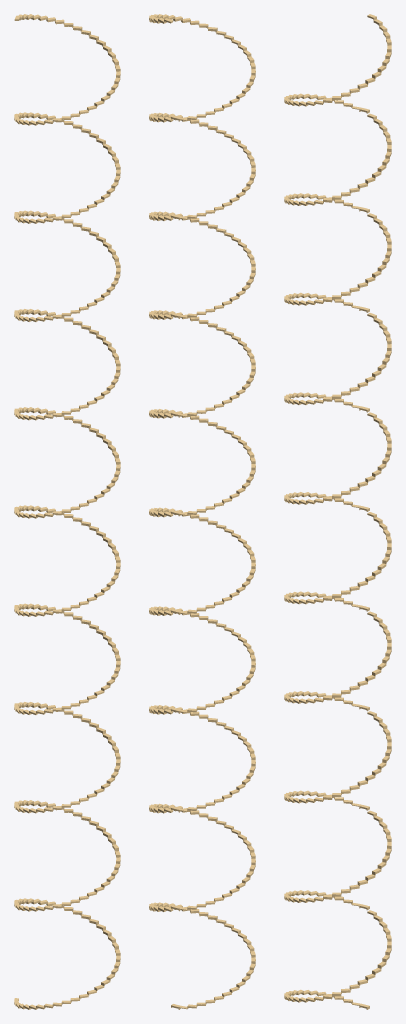
File: original-stair-parts.glb
3 views of the same model, side by side, from view 1: azimuth 90°, elevation 25°; view 2: azimuth 150°, elevation 25°; view 3: azimuth 330°, elevation 25° (orthographic).
Parts seen in each view (by area): view 1: stair-section-10, stair-section-07, stair-section-03, stair-section-04, stair-section-08, stair-section-02, stair-section-06, stair-section-09, stair-section-01, stair-section-05; view 2: stair-section-10, stair-section-05, stair-section-08, stair-section-02, stair-section-07, stair-section-03, stair-section-01, stair-section-06, stair-section-09, stair-section-04; view 3: stair-section-09, stair-section-02, stair-section-07, stair-section-04, stair-section-05, stair-section-06, stair-section-08, stair-section-10, stair-section-01, stair-section-03.
Part boxes in pixels (x1,y1,x2,y2): stair-section-10: (14, 14, 120, 125); stair-section-07: (14, 309, 120, 420); stair-section-03: (14, 702, 120, 813); stair-section-04: (14, 603, 120, 714); stair-section-08: (14, 210, 120, 321); stair-section-02: (14, 800, 120, 911); stair-section-06: (14, 407, 120, 518); stair-section-09: (14, 112, 120, 223); stair-section-01: (14, 898, 120, 1009); stair-section-05: (14, 505, 120, 616); stair-section-10: (149, 14, 255, 121); stair-section-05: (149, 507, 255, 614); stair-section-08: (149, 211, 255, 318); stair-section-02: (149, 803, 255, 911); stair-section-07: (149, 310, 255, 417); stair-section-03: (149, 705, 255, 812); stair-section-01: (149, 902, 255, 1009); stair-section-06: (149, 409, 255, 516); stair-section-09: (149, 112, 255, 220); stair-section-04: (149, 606, 255, 713); stair-section-09: (284, 113, 391, 213); stair-section-02: (284, 810, 391, 910); stair-section-07: (284, 313, 391, 412); stair-section-04: (284, 611, 391, 711); stair-section-05: (284, 512, 391, 611); stair-section-06: (284, 412, 391, 511); stair-section-08: (284, 213, 391, 312); stair-section-10: (284, 14, 391, 113); stair-section-01: (284, 910, 391, 1009); stair-section-03: (284, 711, 391, 810).
Size of the model in its own units: 9.8 by 99.88 by 9.8.
